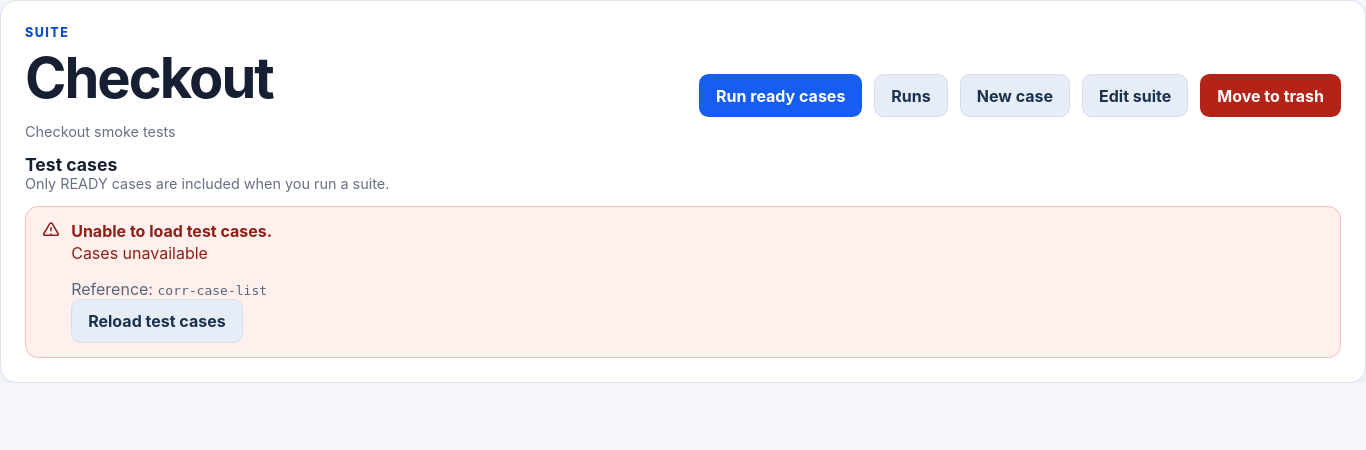
Test: suite recovery surfaces › refetches failed case loading without reloading the suite
Expected: the text "corr-case-list" is shown, [158,284,267,298]
Click the button "Reload test cases": (157, 321) [71,300,243,343]
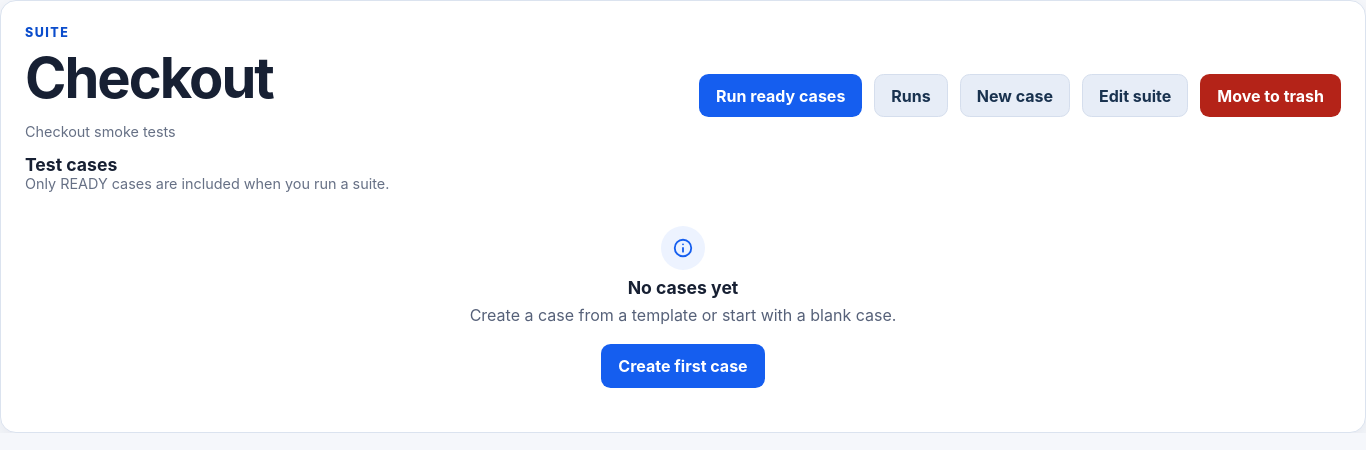
Now the heading "No cases yet" is shown, box [628,277,738,298]
